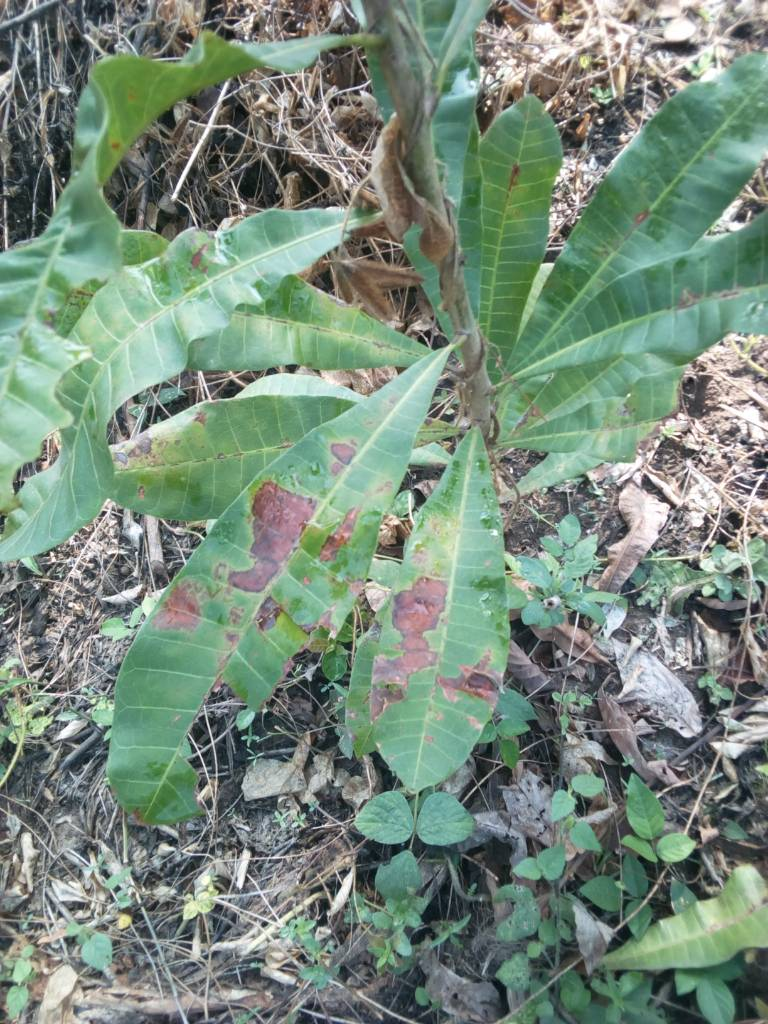Dysdercus wolkerii: (88, 334, 455, 838), (355, 416, 534, 803)
